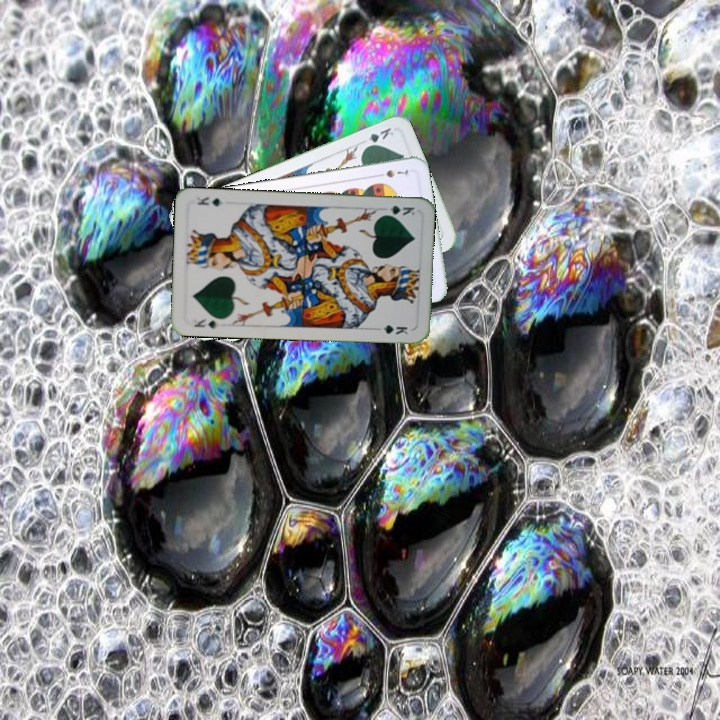GK: (360, 123, 396, 151), (378, 202, 417, 218), (190, 315, 222, 331)
S7: (372, 166, 411, 180)
